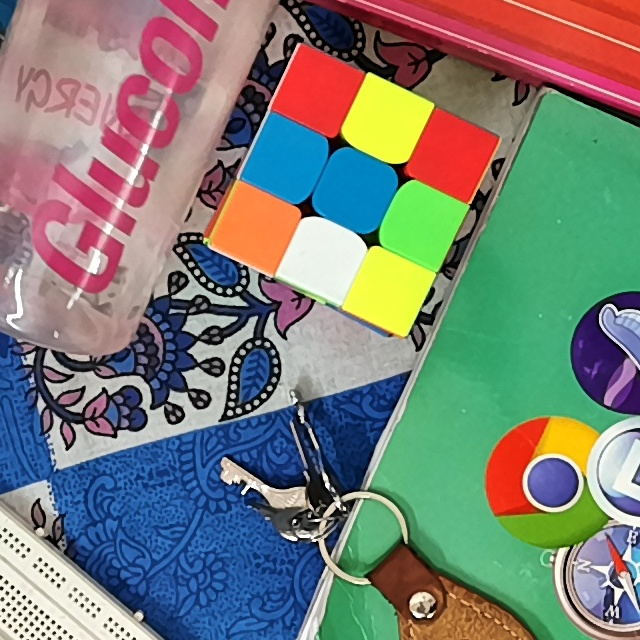tile: (291, 66, 344, 119), (427, 130, 479, 184), (329, 165, 384, 216), (294, 233, 352, 281), (261, 135, 313, 185), (359, 97, 412, 146), (230, 205, 283, 254), (397, 198, 448, 248), (363, 266, 415, 314)
